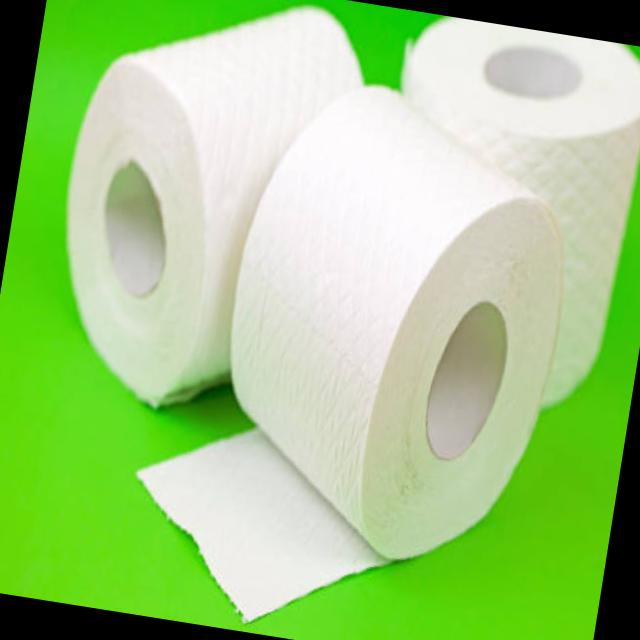electronic: (196, 66, 592, 582), (34, 0, 374, 433), (350, 10, 640, 417), (115, 405, 409, 640)
